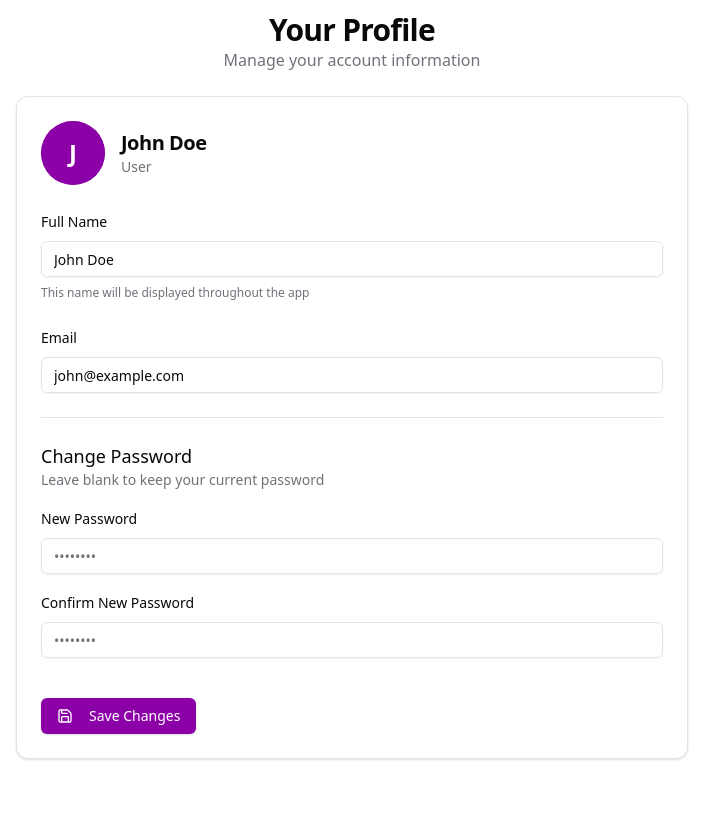
Test: Profile › shows success message on update
The image size is (705, 822).
In the field labelled "Full Name": (352, 259) [41,241,663,277], type "Jane Doe"
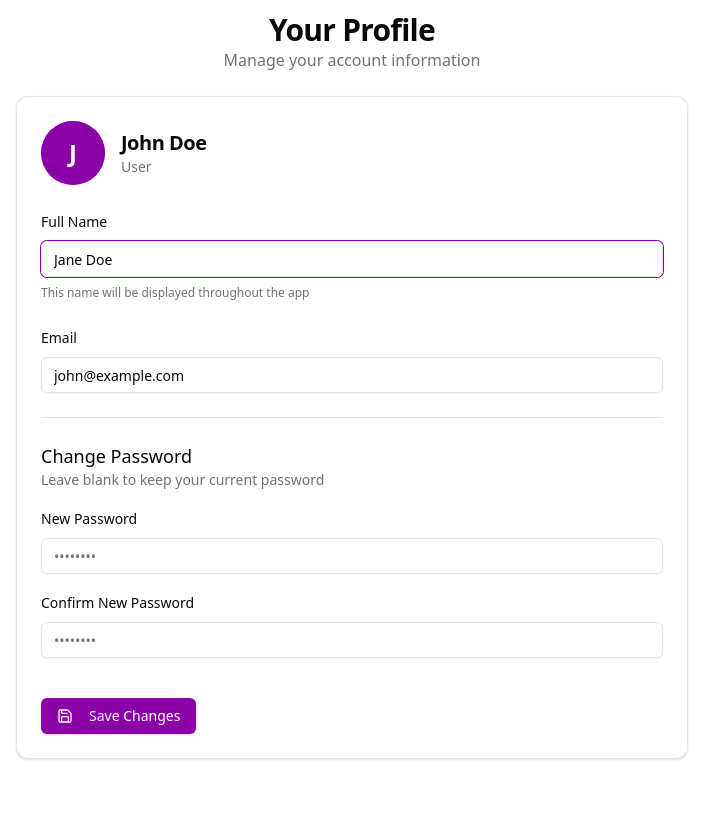
Click the button "Save Changes": (119, 716) [41,698,196,734]
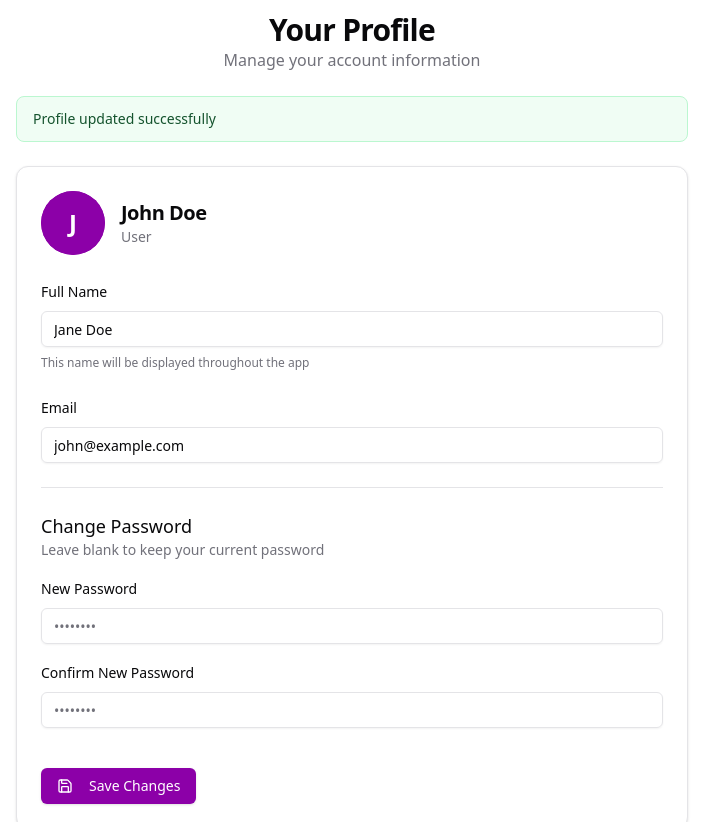
Check: the text "Profile updated successfully" is shown, box [33,109,216,128]
